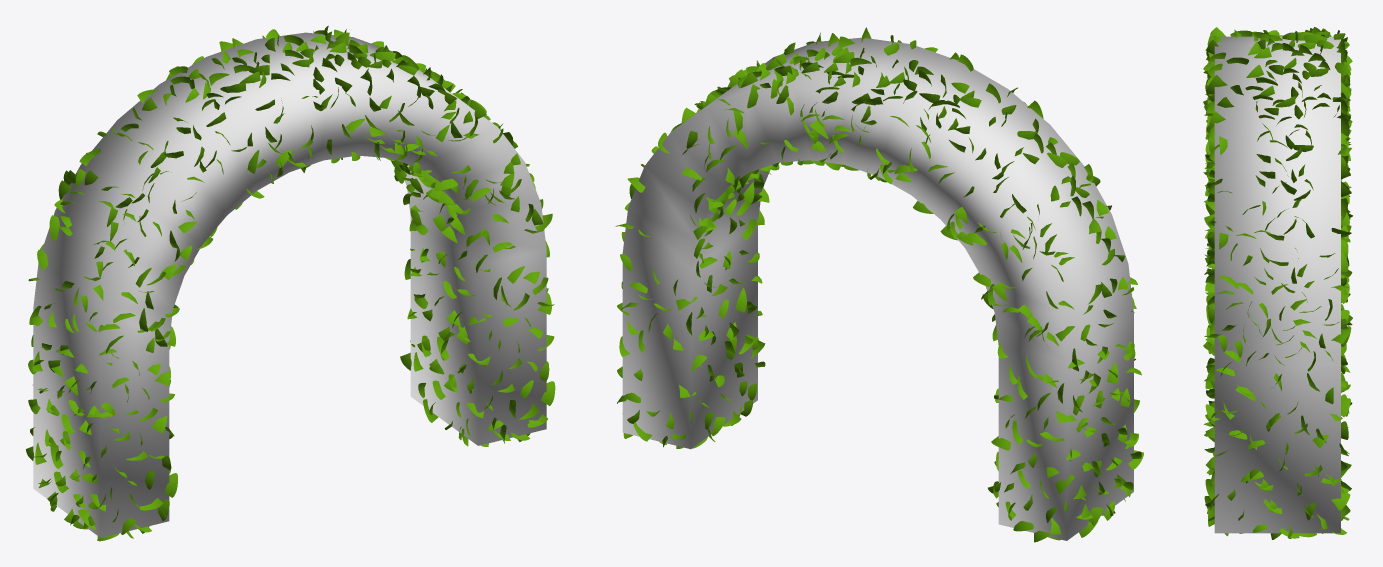
Rendered from GardenArch.fbx.
3 views of the same model, side by side, from view 1: azimuth 30°, elevation 25°; view 2: azimuth 150°, elevation 25°; view 3: azimuth 270°, elevation 25° (orthographic). The views are drawn at different scales.
Parts seen in each view (by area): view 1: Garden_Arch; view 2: Garden_Arch; view 3: Garden_Arch.
Part boxes in pixels (x1,y1,x2,y2): Garden_Arch: [26, 25, 555, 541]; Garden_Arch: [615, 27, 1143, 542]; Garden_Arch: [1203, 27, 1352, 539].
Bounding box in the file's own units: 7.25 × 6.18 × 2.44.
